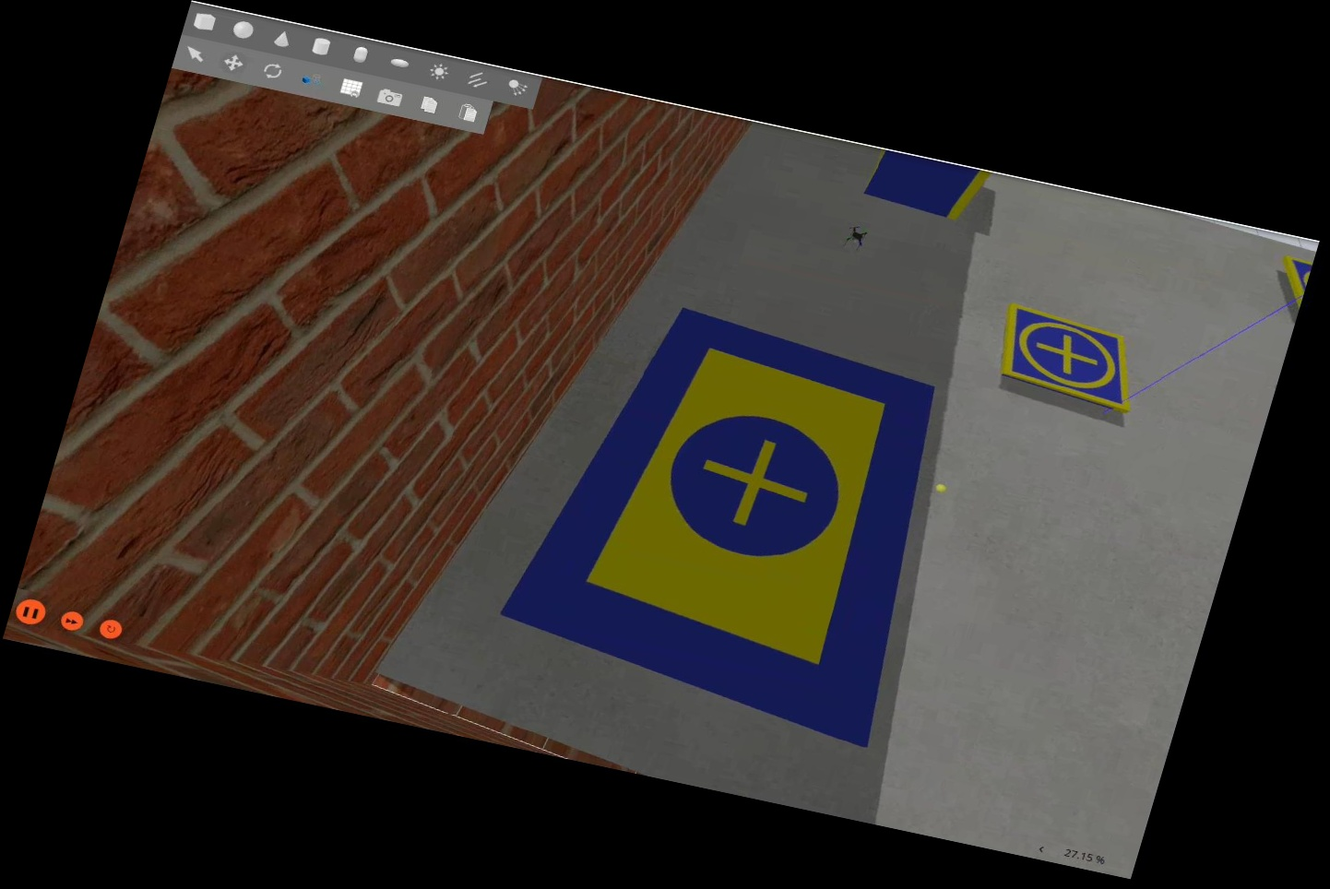large_base: (484, 287, 981, 751)
small_base: (988, 299, 1157, 415)
